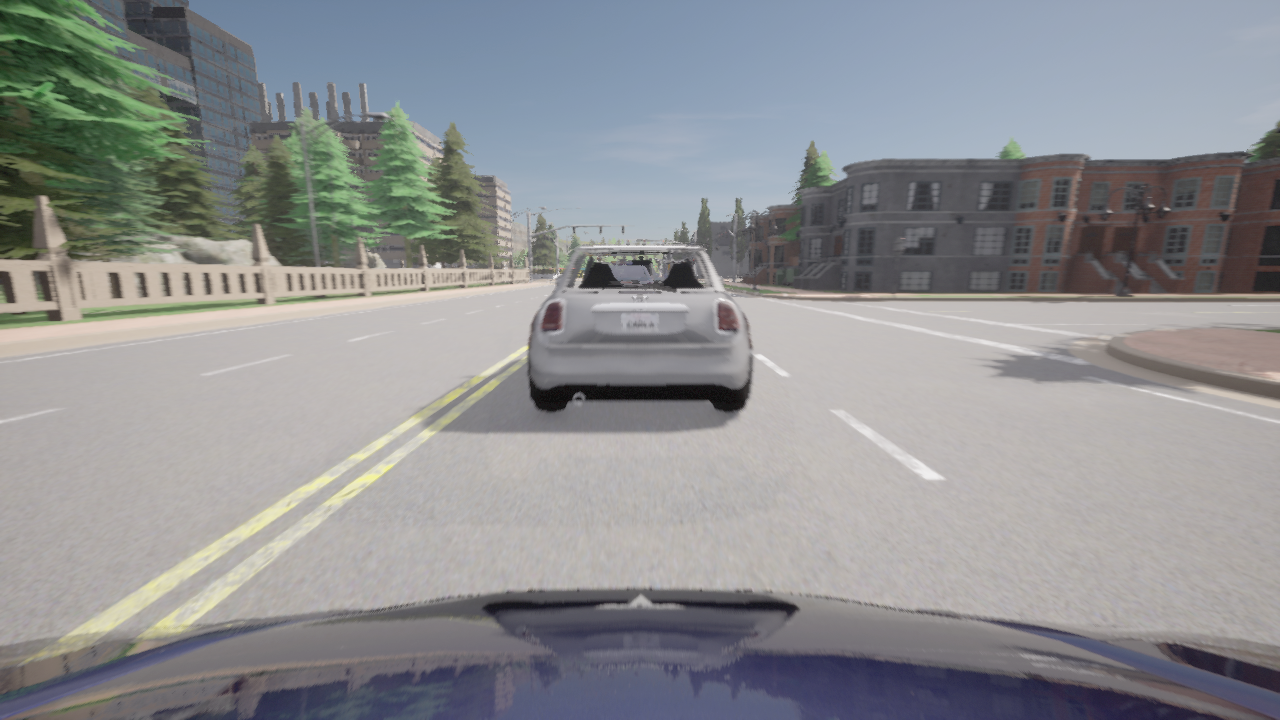cyclist: (0, 588, 1279, 719), (527, 245, 752, 412), (405, 263, 436, 268)
